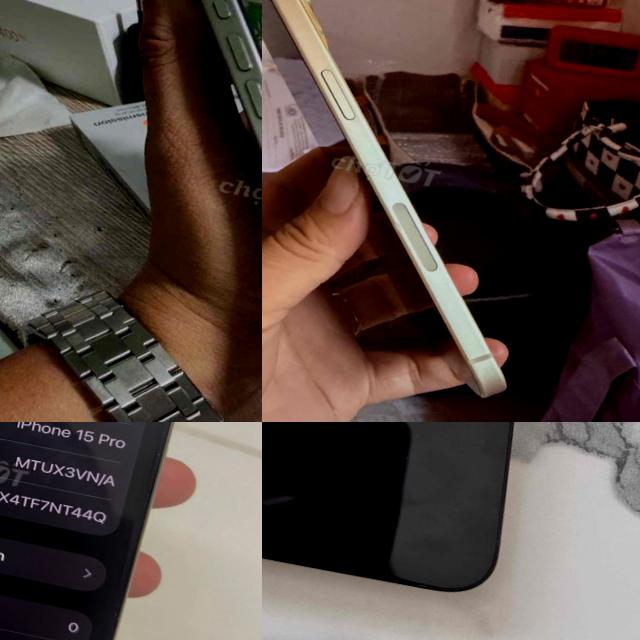gen_12_13: (262, 422, 513, 590)
gen_15: (262, 0, 586, 422), (69, 0, 262, 422), (0, 422, 214, 640)
physical_damage: (390, 216, 406, 233)
